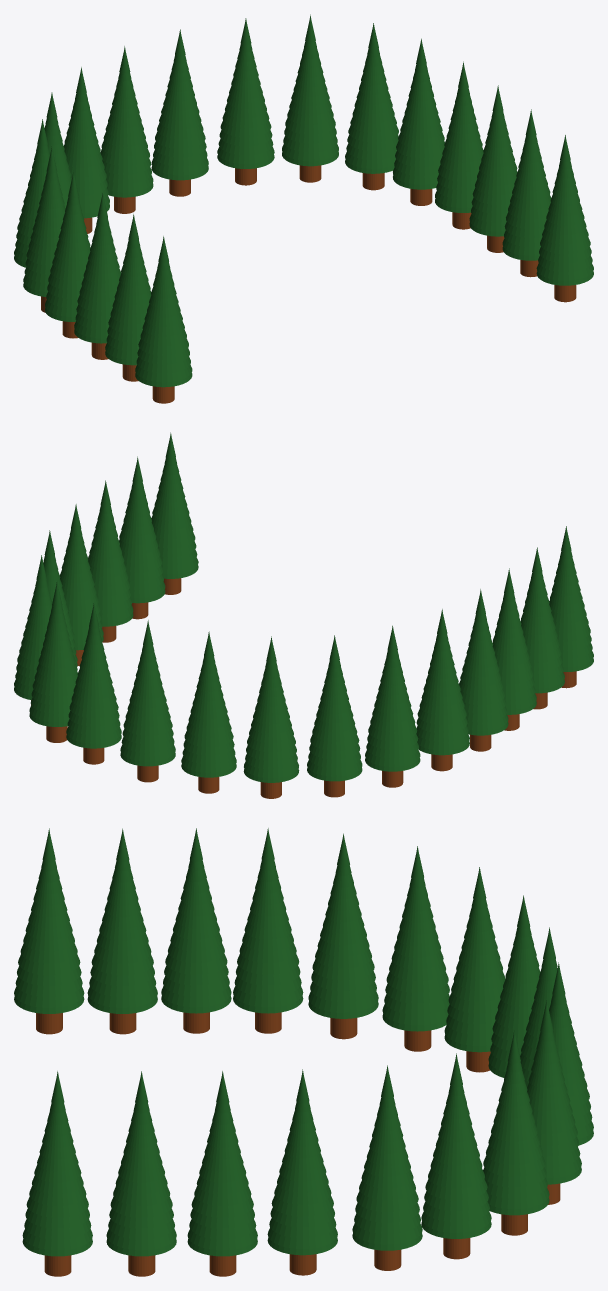
The model's file is pinos.glb.
3 renders of one model, top to bottom at view 1: azimuth 30°, elevation 25°; view 2: azimuth 150°, elevation 25°; view 3: azimuth 270°, elevation 25°, orthographic. The views are drawn at different scales.
Parts seen in each view (by area): view 1: Cilindro.020, Cilindro, Cilindro.007, Cilindro.008, Cilindro.009, Cilindro.005, Cilindro.010, Cilindro.003, Cilindro.002, Cilindro.006, Cilindro.001, Cilindro.018 (+6 smaller); view 2: Cilindro.008, Cilindro.010, Cilindro.009, Cilindro.013, Cilindro.011, Cilindro.012, Cilindro.014, Cilindro.016, Cilindro.007, Cilindro, Cilindro.006, Cilindro.001 (+6 smaller); view 3: Cilindro.001, Cilindro.002, Cilindro, Cilindro.019, Cilindro.014, Cilindro.006, Cilindro.003, Cilindro.005, Cilindro.016, Cilindro.020, Cilindro.018, Cilindro.013 (+6 smaller).
Part boxes in pixels (x1,y1,x2,y2): Cilindro.020: (135, 236, 192, 403); Cilindro: (536, 135, 593, 302); Cilindro.007: (282, 14, 338, 182); Cilindro.008: (217, 18, 274, 185); Cilindro.009: (151, 29, 208, 196); Cilindro.005: (345, 23, 398, 190); Cilindro.010: (100, 46, 153, 213); Cilindro.003: (393, 38, 444, 205); Cilindro.002: (435, 61, 483, 229); Cilindro.006: (502, 109, 551, 277); Cilindro.001: (469, 85, 517, 252); Cilindro.018: (74, 192, 121, 359); Cilindro.008: (66, 602, 121, 764); Cilindro.010: (181, 631, 236, 793); Cilindro.009: (120, 620, 175, 782); Cilindro.013: (365, 625, 420, 787); Cilindro.011: (243, 636, 299, 798); Cilindro.012: (307, 635, 362, 797); Cilindro.014: (416, 609, 469, 771); Cilindro.016: (459, 589, 508, 751); Cilindro.007: (29, 580, 77, 742); Cilindro: (151, 432, 198, 594); Cilindro.006: (119, 456, 165, 619); Cilindro.001: (88, 480, 133, 642); Cilindro.001: (187, 1071, 257, 1276); Cilindro.002: (267, 1069, 337, 1275); Cilindro: (22, 1071, 92, 1276); Cilindro.019: (87, 828, 157, 1034); Cilindro.014: (308, 833, 378, 1039); Cilindro.006: (106, 1071, 176, 1276); Cilindro.003: (352, 1065, 422, 1270); Cilindro.005: (421, 1053, 491, 1259); Cilindro.016: (233, 828, 303, 1033); Cilindro.020: (14, 828, 84, 1034); Cilindro.018: (161, 828, 231, 1033); Cilindro.013: (382, 846, 449, 1051).
Size of the model in its own units: 71.43 by 24.52 by 64.2.
